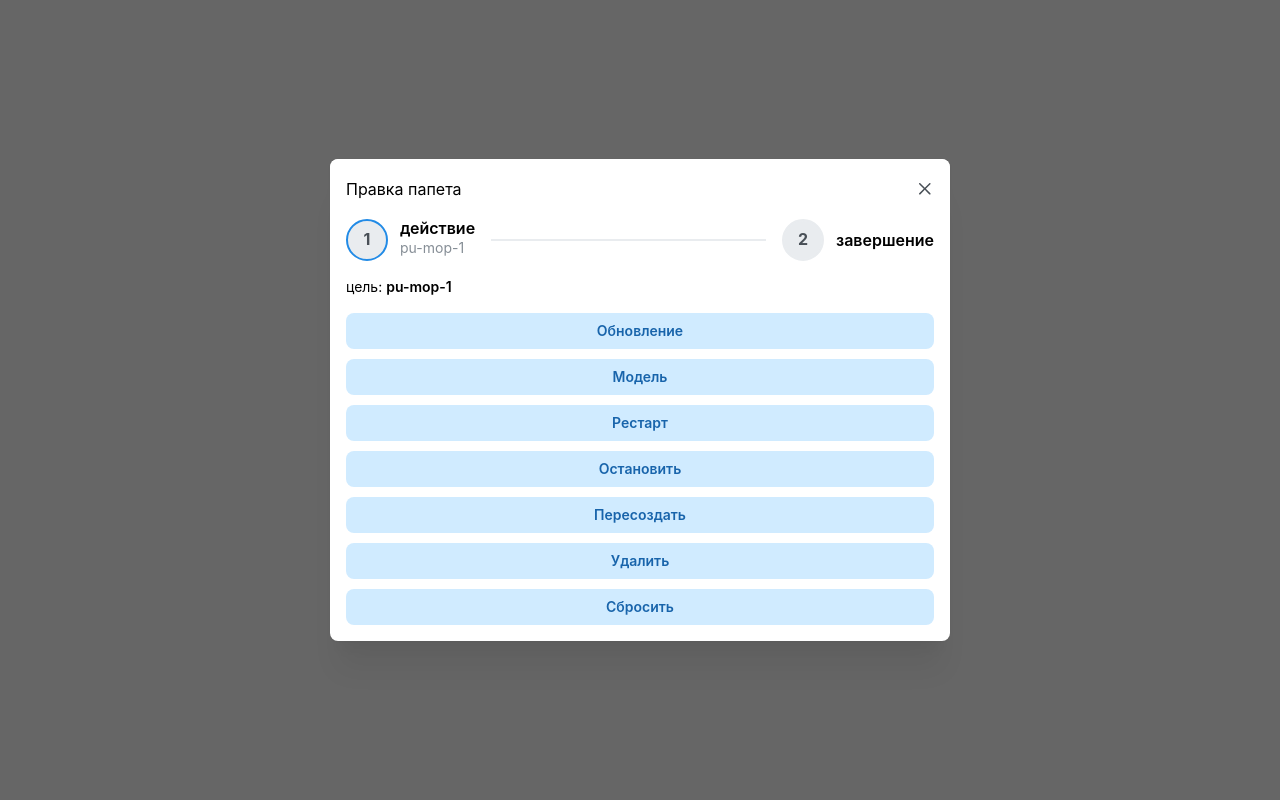
#527 the mode radios carry their consequence descriptions
Click the button "Обновление": click(640, 331) [346,313,934,349]
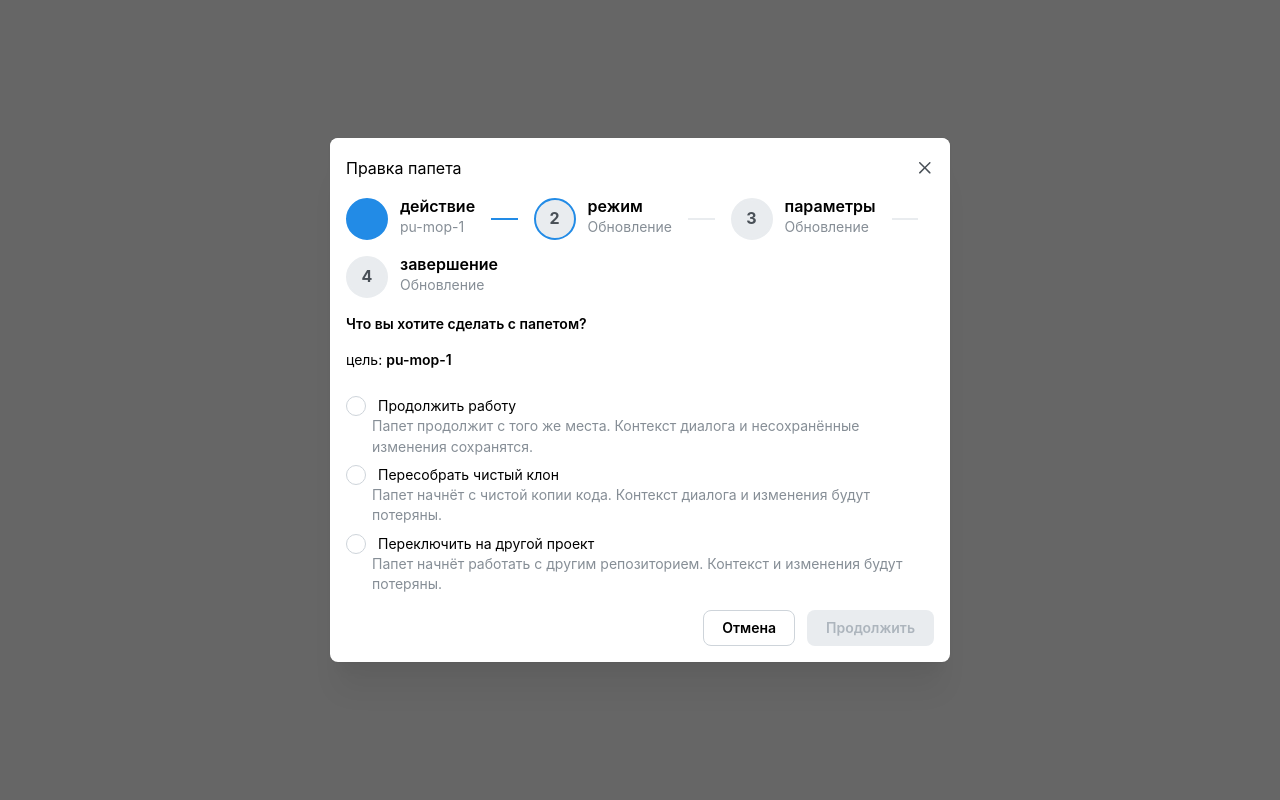
Check: the button "Продолжить" is disabled, box [807,610,934,646]
Click the radio button labelled "Пересобрать чистый клон": click(356, 475) [346,465,366,485]
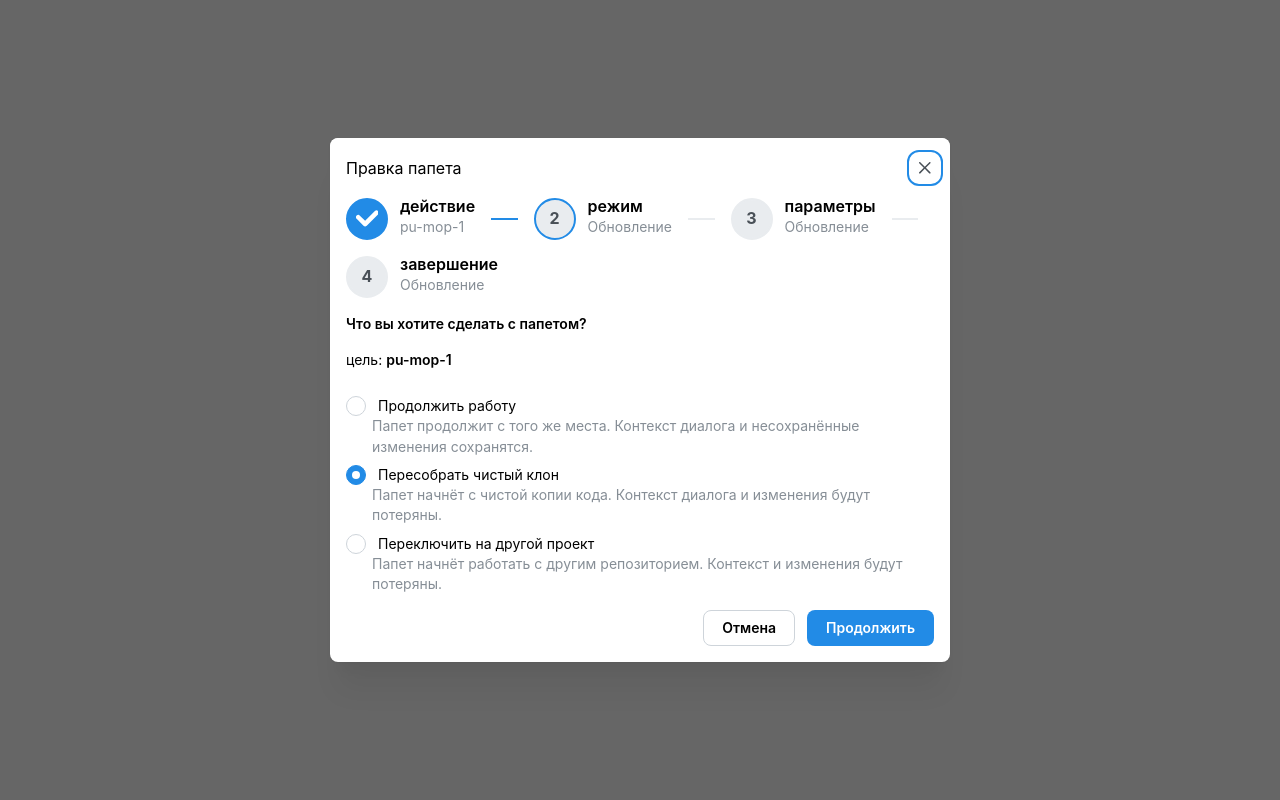
Check: the button "Продолжить" is enabled, box [807,610,934,646]
